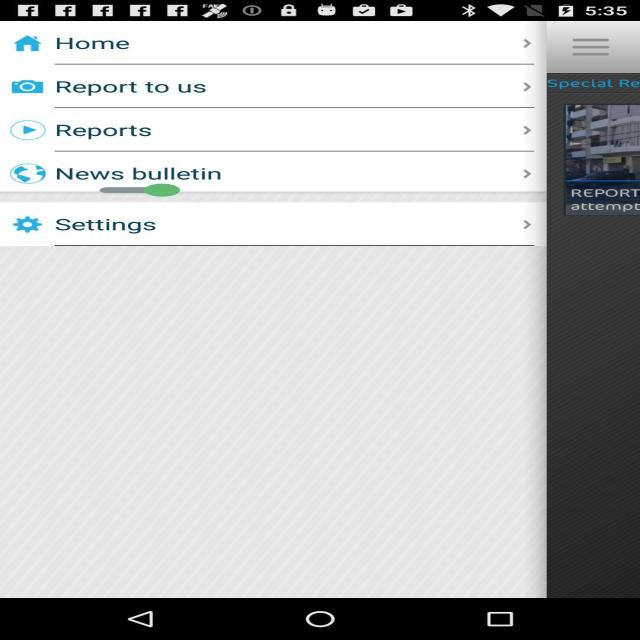social proof: (100, 176, 180, 204)
